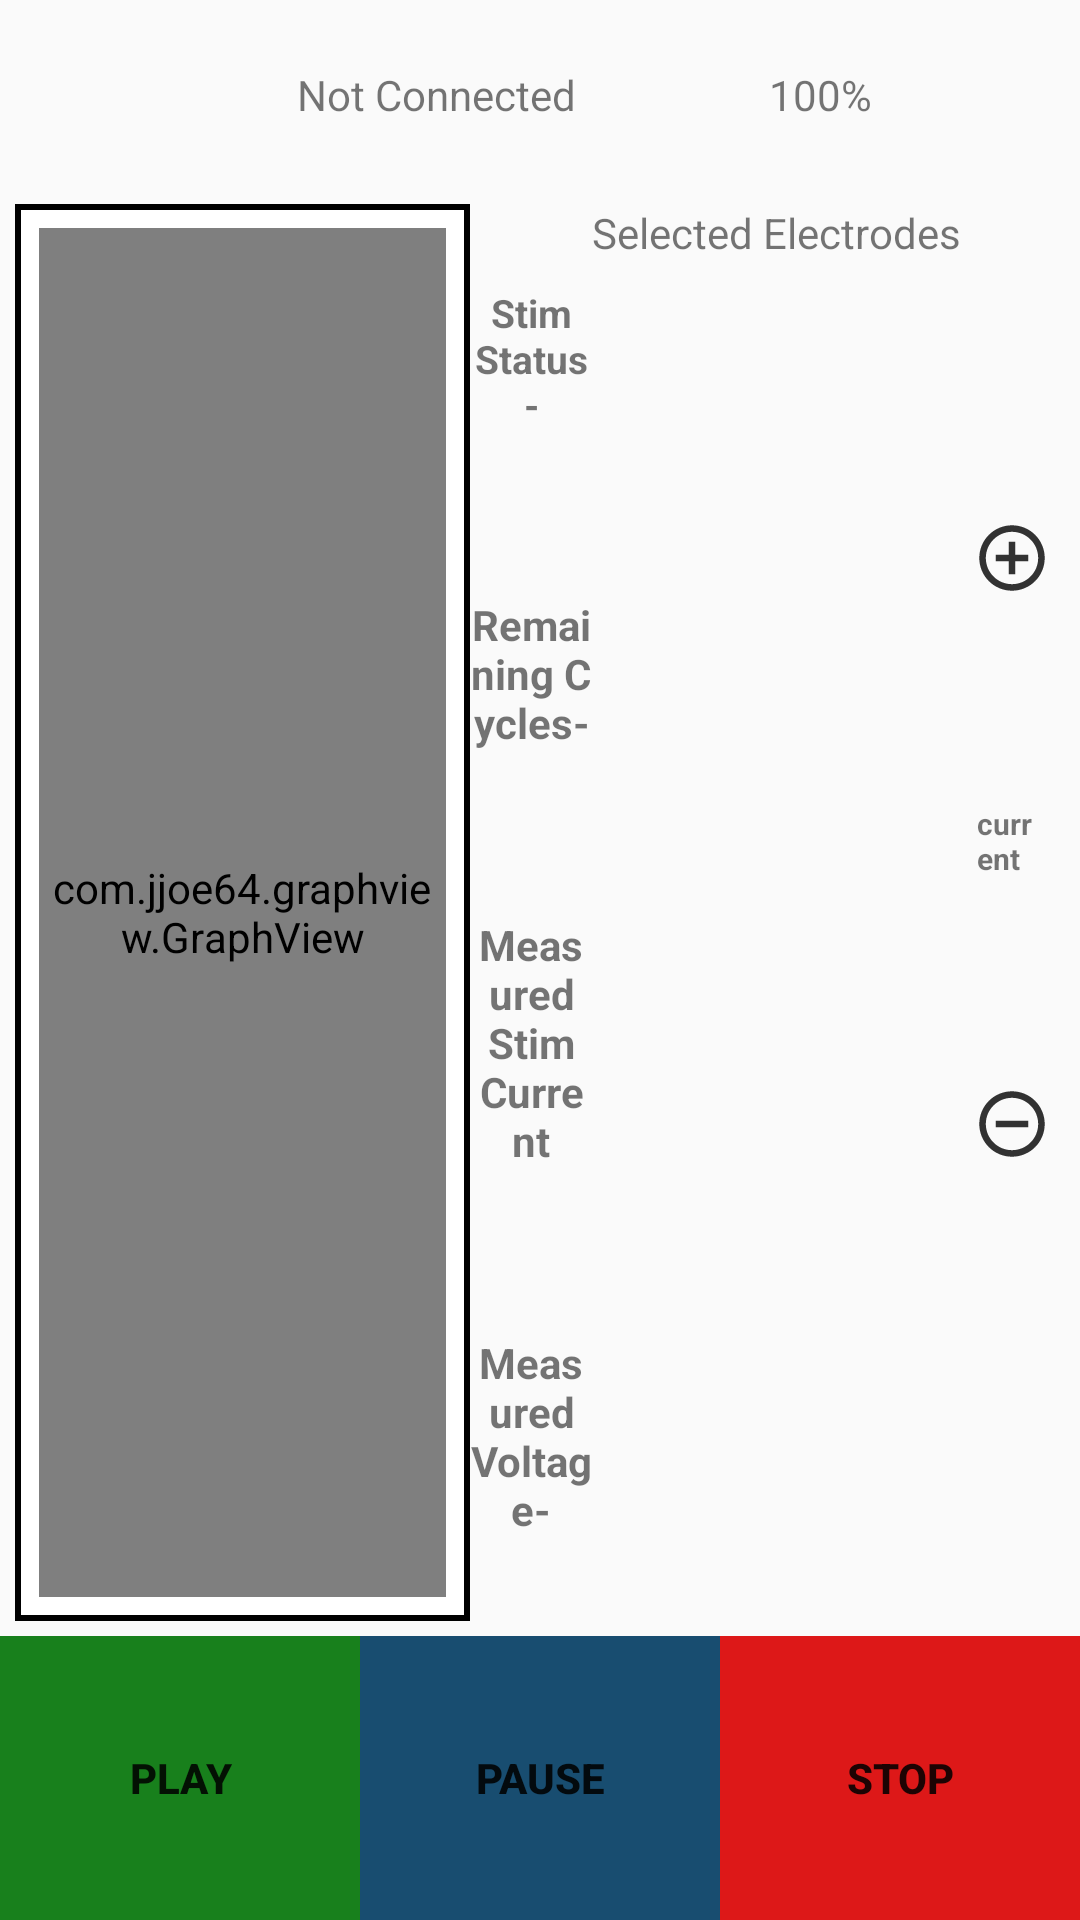

Named icons in this screenshot (1080 × 1920) and their bounding boxes, (left=x1, top=y1, right=x2, bottom=y2):
add circle: (left=979, top=525, right=1045, bottom=591)
minus circle: (left=979, top=1091, right=1045, bottom=1157)
